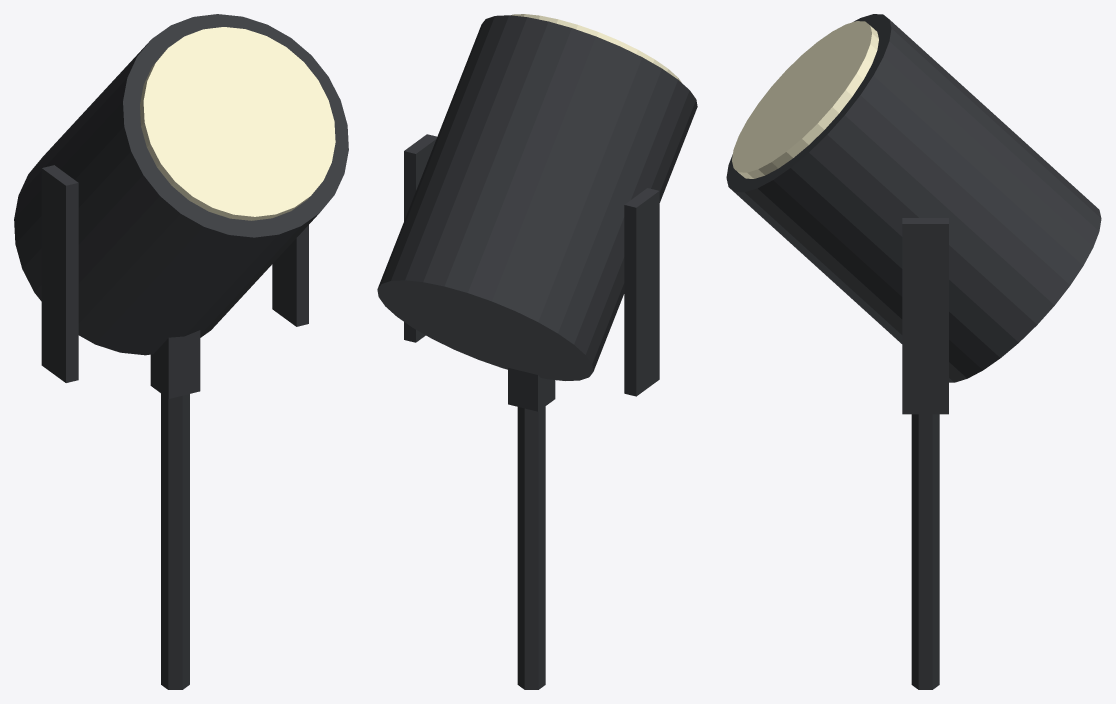
3 views of the same model, side by side, from view 1: azimuth 30°, elevation 25°; view 2: azimuth 150°, elevation 25°; view 3: azimuth 270°, elevation 25° (orthographic). The views are drawn at different scales.
Parts seen in each view (by area): view 1: baseOffset=0;diameter=0.2;height=0.25;material=luminaire;pow (×2); view 2: baseOffset=0;diameter=0.2;height=0.25;material=luminaire;pow (×2); view 3: baseOffset=0;diameter=0.2;height=0.25;material=luminaire;pow (×2).
Boxes of the visible parts, x1,y1,x2,y2 form: baseOffset=0;diameter=0.2;height=0.25;material=luminaire;pow (×2): (14, 14, 348, 689); baseOffset=0;diameter=0.2;height=0.25;material=luminaire;pow (×2): (377, 14, 697, 689); baseOffset=0;diameter=0.2;height=0.25;material=luminaire;pow (×2): (726, 14, 1101, 689).
Bounding box in the file's own units: 0.232 × 0.3214 × 0.6207.
